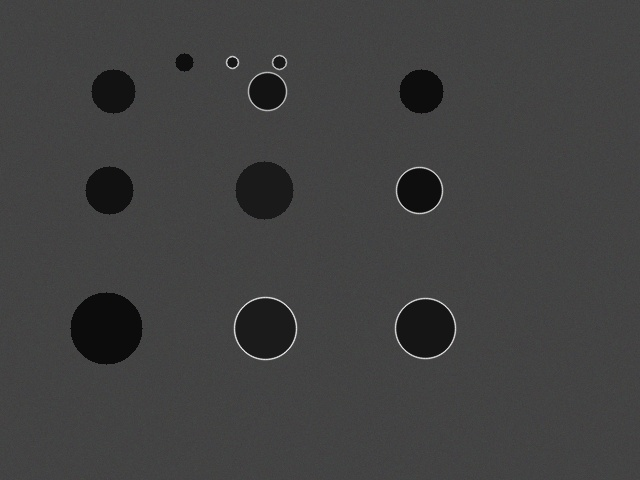hole: (70, 292, 142, 364), (234, 297, 296, 359), (395, 298, 455, 358), (235, 161, 293, 219), (85, 166, 133, 214), (396, 167, 442, 213), (91, 69, 135, 113), (399, 69, 443, 113), (248, 72, 286, 110), (175, 53, 193, 71), (272, 55, 286, 69), (226, 56, 238, 68)
